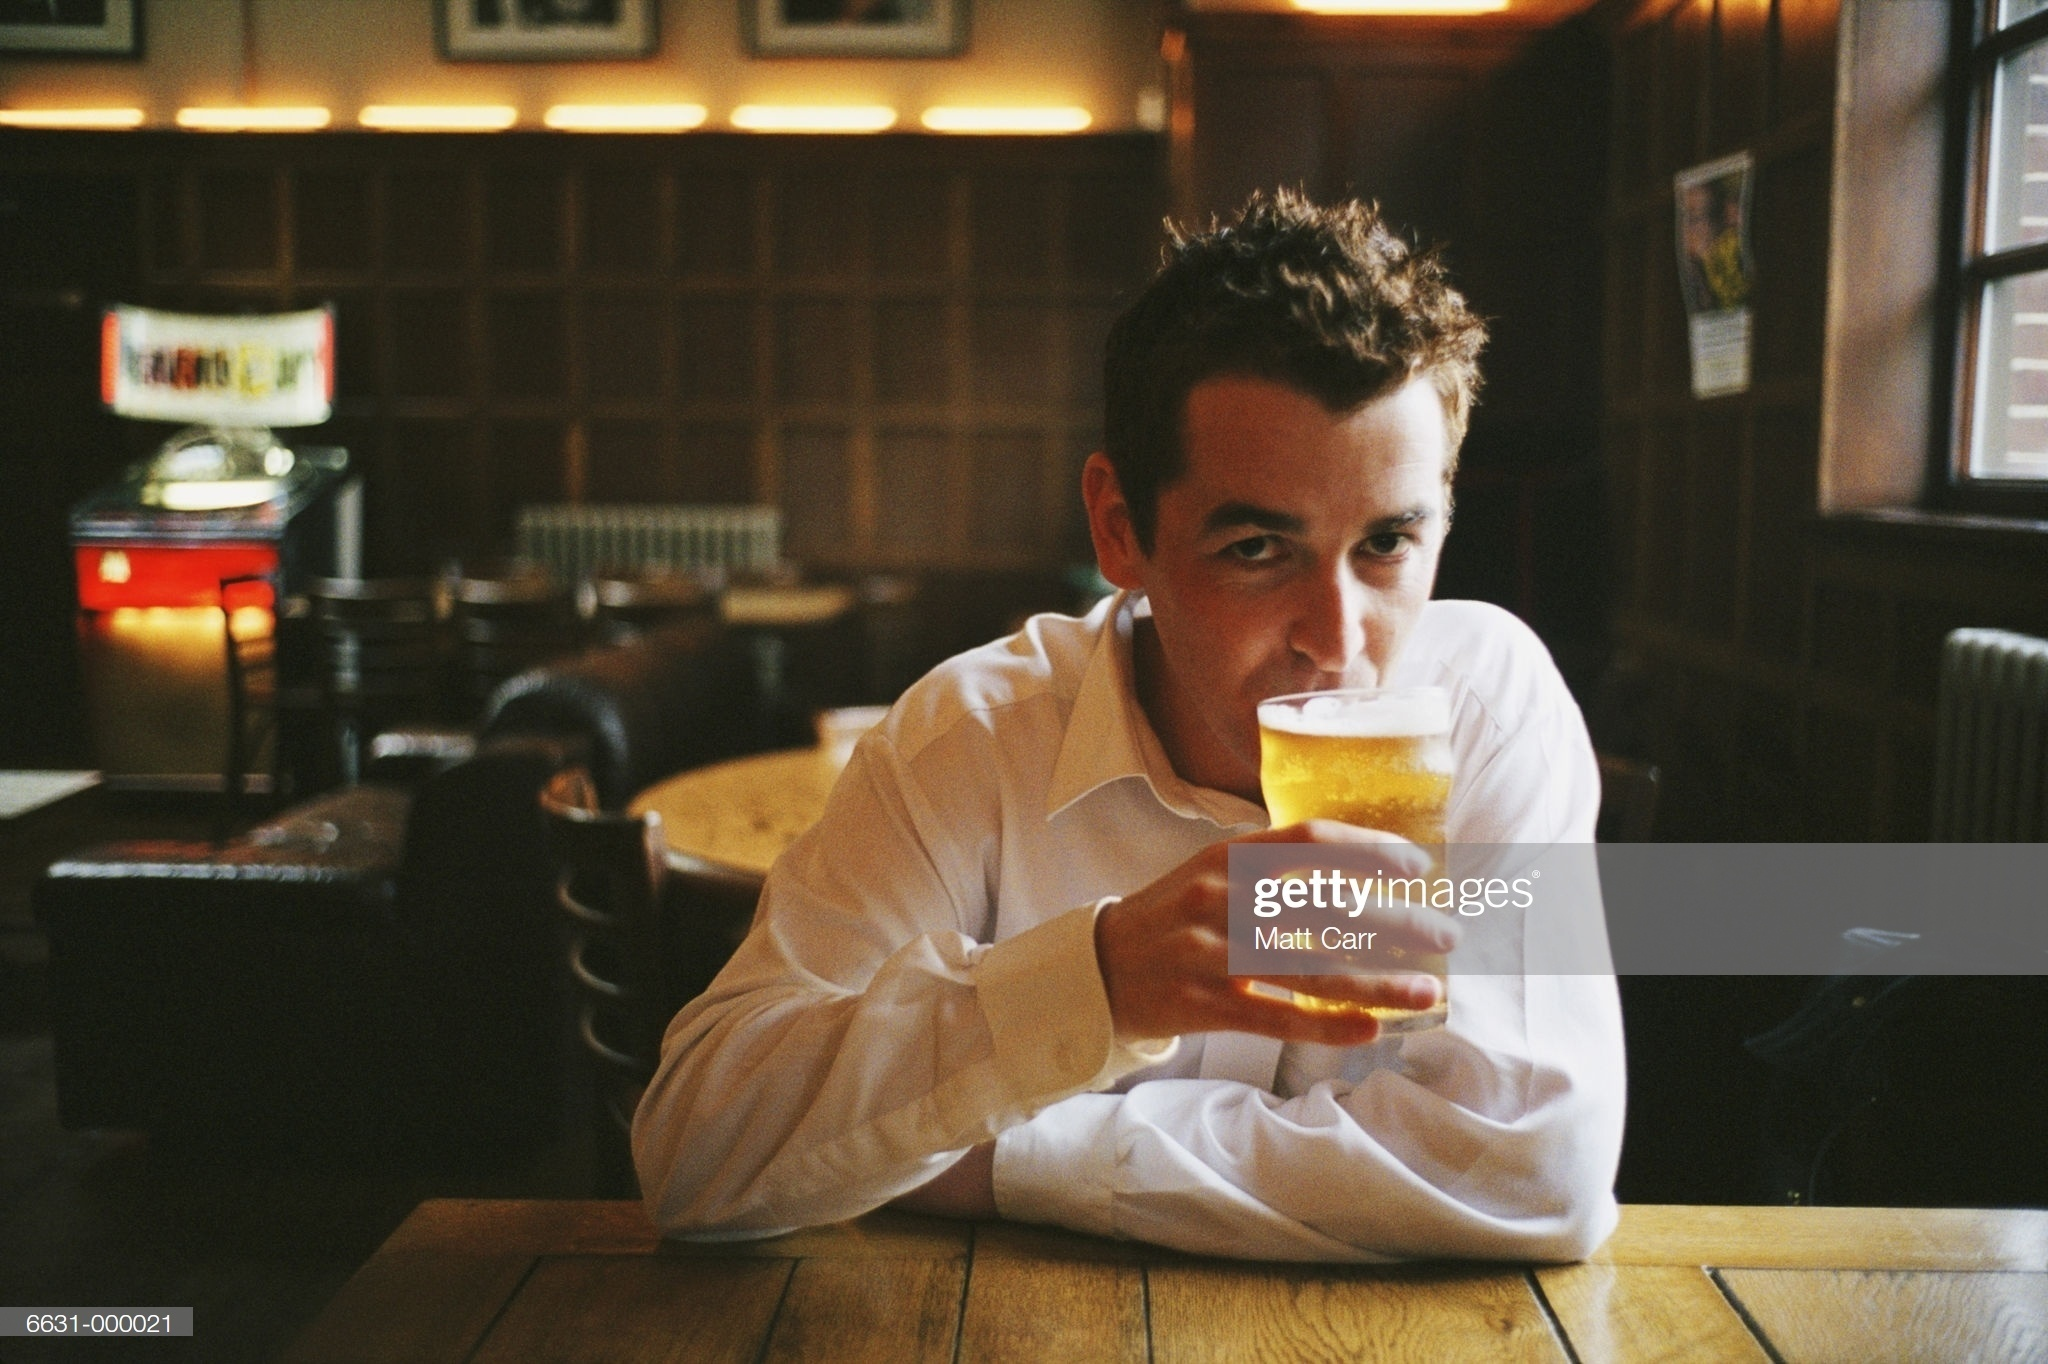whiskey: (1251, 694, 1456, 1046)
